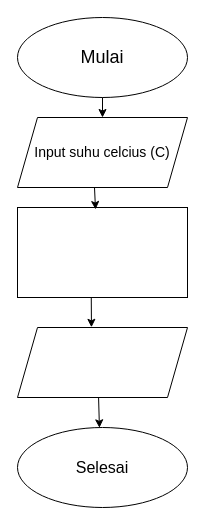
This 205x525 diagram has some shape labels left out. The centre of each missing label's shape, as x and y in pixels:
"Menampilkan hasil konversi suhu Fahrenheit (F)" belongs at point (102, 362).
"Menghitung suhu Fahrenheit F = (C * 9/5) + 32" belongs at point (102, 252).
